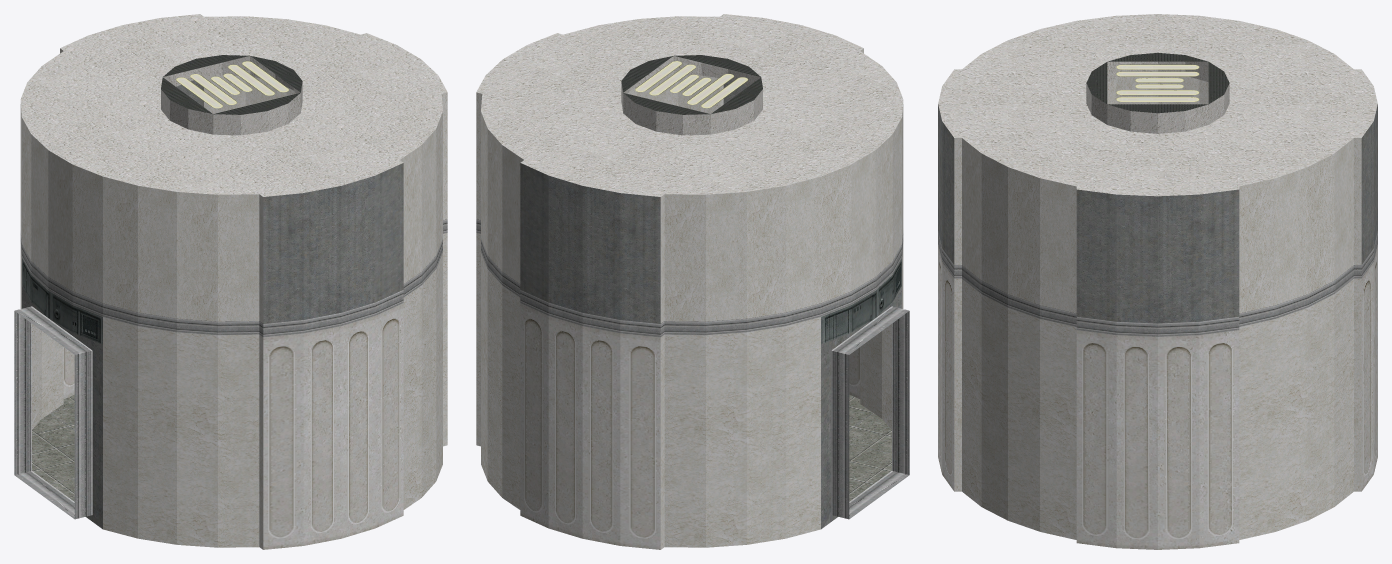
File: ply_corl_house_m_s01_fp1_r4_bedroom_mesh.fbx
The picture shows the model from 3 angles, left to right: view 1: azimuth 30°, elevation 25°; view 2: azimuth 150°, elevation 25°; view 3: azimuth 270°, elevation 25°; orthographic projection.
Visible parts, largest first — view 1: mesh_node; view 2: mesh_node; view 3: mesh_node.
Boxes of the visible parts, x1=… form: mesh_node: x1=14, y1=14, x2=447, y2=549; mesh_node: x1=476, y1=14, x2=909, y2=549; mesh_node: x1=938, y1=14, x2=1377, y2=549.
Bounding box in the file's own units: 7.19 × 6.81 × 7.25.
